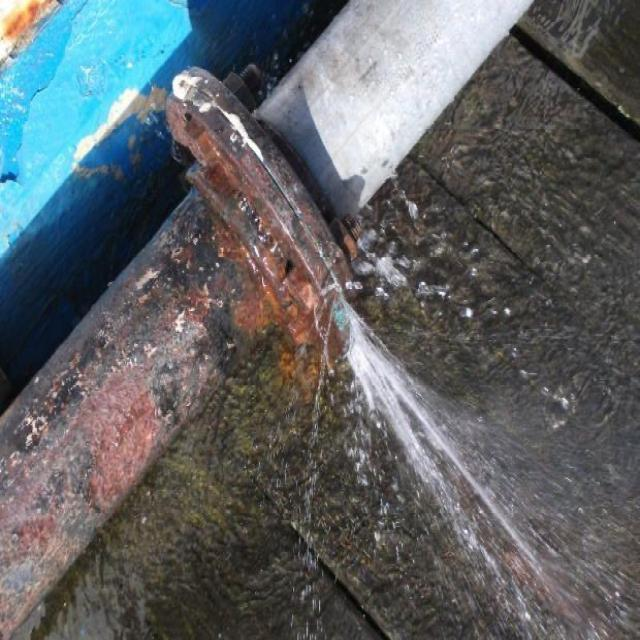pipe burst: (326, 275, 576, 606)
water accumulation: (4, 1, 640, 640)
